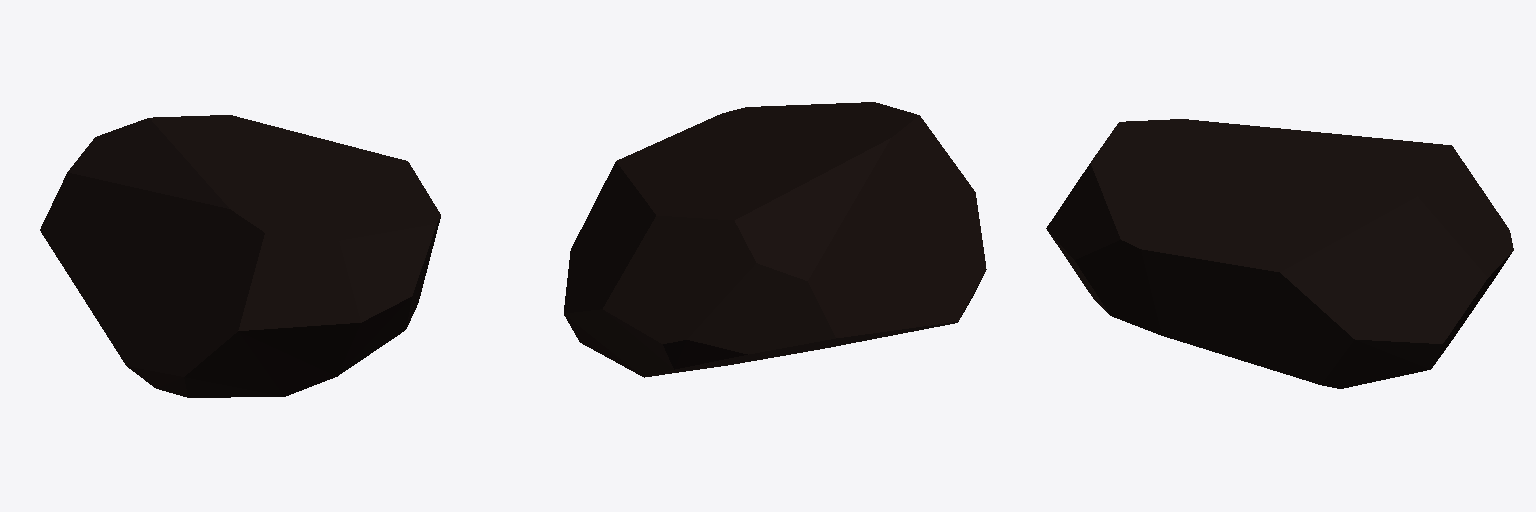
File: Rock2.obj
The picture shows the model from 3 angles: view 1: azimuth 30°, elevation 25°; view 2: azimuth 150°, elevation 25°; view 3: azimuth 270°, elevation 25°; orthographic projection.
Parts seen in each view (by area): view 1: Rock.020; view 2: Rock.020; view 3: Rock.020.
Part boxes in pixels (x1,y1,x2,y2): Rock.020: (40,115,440,397); Rock.020: (564,102,986,377); Rock.020: (1046,119,1513,388).
Size of the model in its own units: 1.5 by 0.9044 by 1.9.